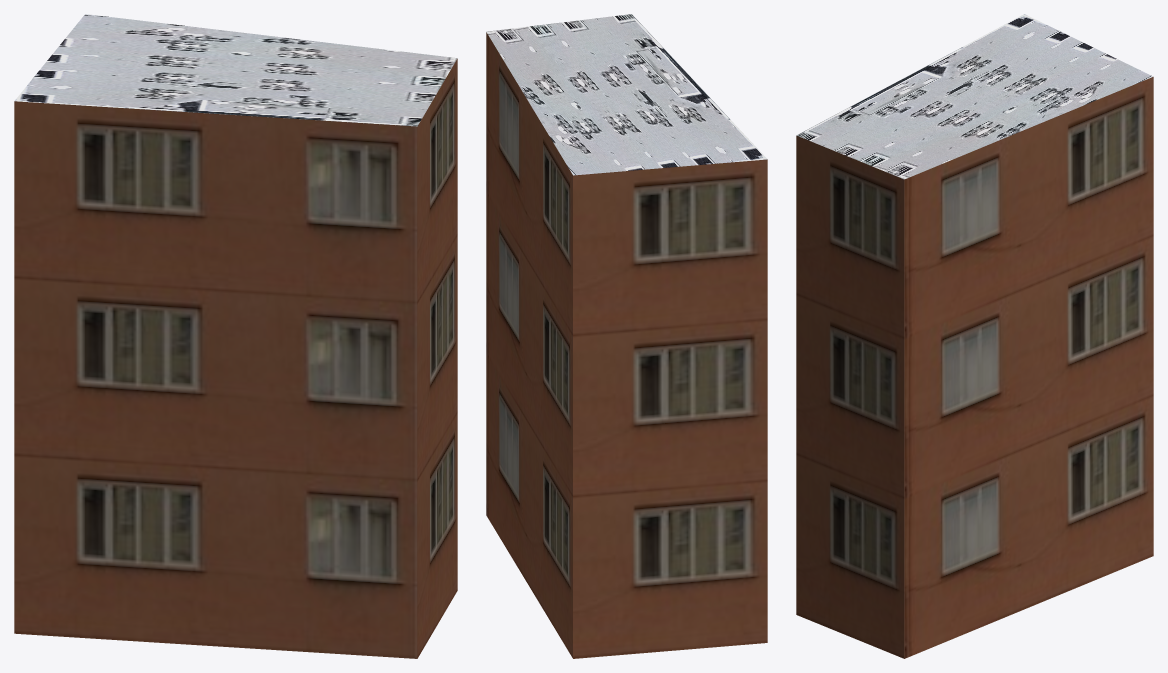
Rendered from ResTex__4143.fbx.
The picture shows the model from 3 angles, left to right: view 1: azimuth 30°, elevation 25°; view 2: azimuth 150°, elevation 25°; view 3: azimuth 270°, elevation 25°; orthographic projection. The views are drawn at different scales.
Parts seen in each view (by area): view 1: CityEngineMaterial_20_m, CityEngineMaterial_8_m; view 2: CityEngineMaterial_20_m, CityEngineMaterial_8_m; view 3: CityEngineMaterial_20_m, CityEngineMaterial_8_m.
Boxes of the visible parts, box(x1,y1,x2,y2) form: CityEngineMaterial_20_m: box(14, 59, 457, 658); CityEngineMaterial_8_m: box(14, 14, 457, 126); CityEngineMaterial_20_m: box(486, 32, 767, 658); CityEngineMaterial_8_m: box(486, 14, 767, 175); CityEngineMaterial_20_m: box(796, 77, 1153, 658); CityEngineMaterial_8_m: box(796, 14, 1153, 179).
Size of the model in its own units: 6.67 by 9 by 6.08.
Materials: 2 (2 with a texture image).
